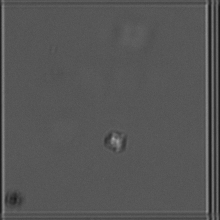Dead Cell: (4, 189, 29, 213)
Living Cell: (100, 126, 133, 155)
